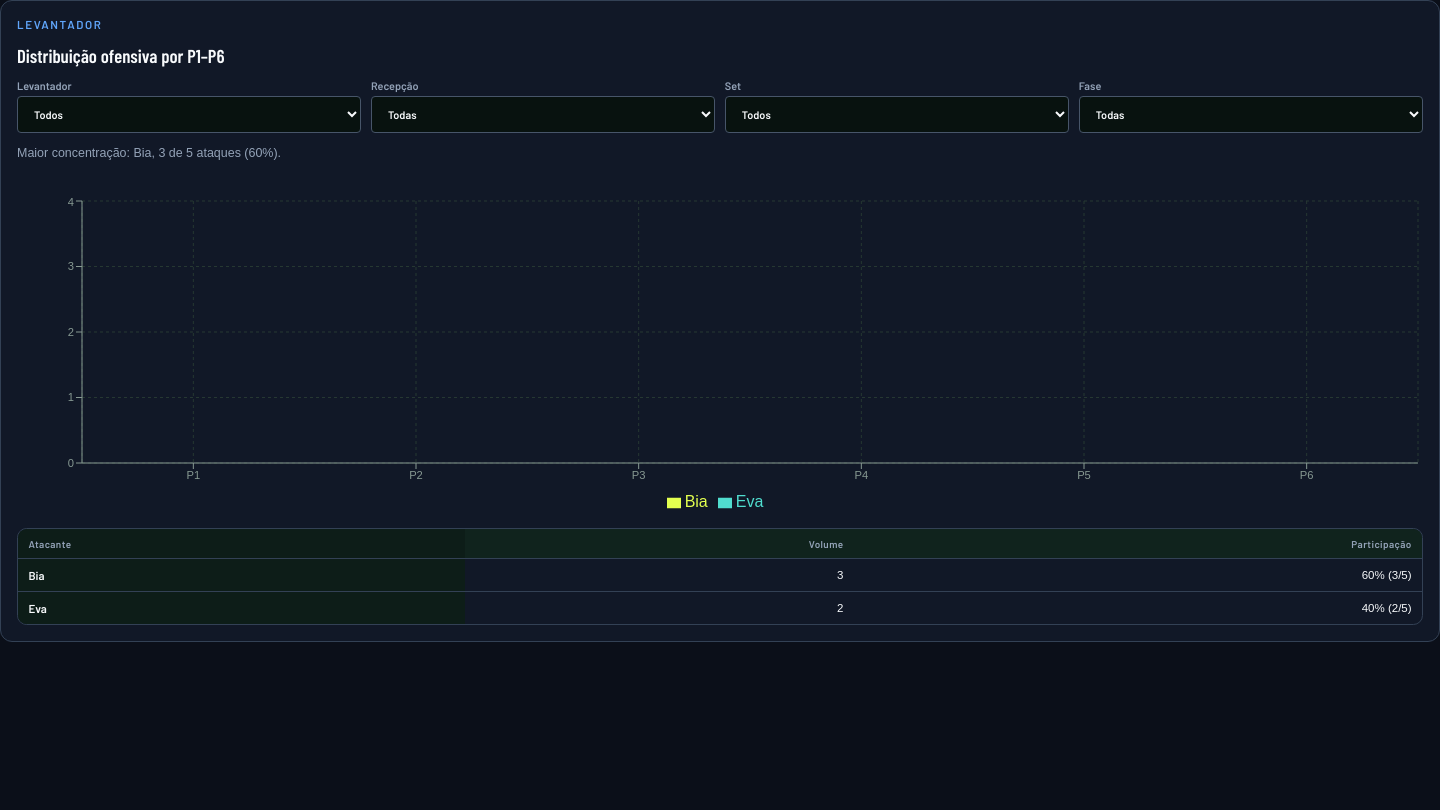
Test: visual analytics › filtra a distribuição por set e atualiza a concentração textual
expect the text "Maior concentração: Bia, 3 de 5 ataques (60%)." is shown: met, box [17,146,281,160]
Select "Set 2" in the dropdown labelled "Set" at (897, 115), box [725,96,1069,133]
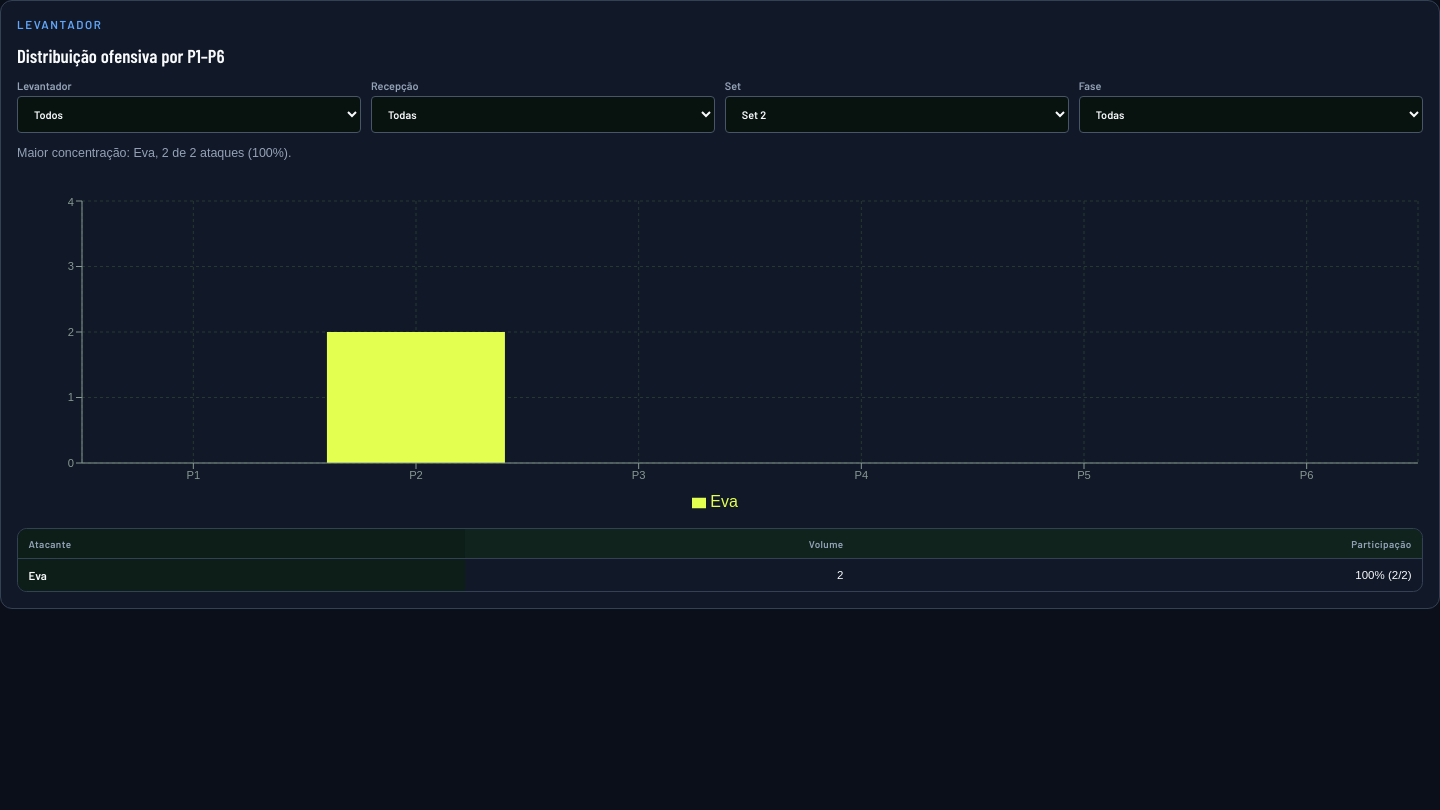
expect the text "Maior concentração: Eva, 2 de 2 ataques (100%)." is shown: met, box [17,146,292,160]
